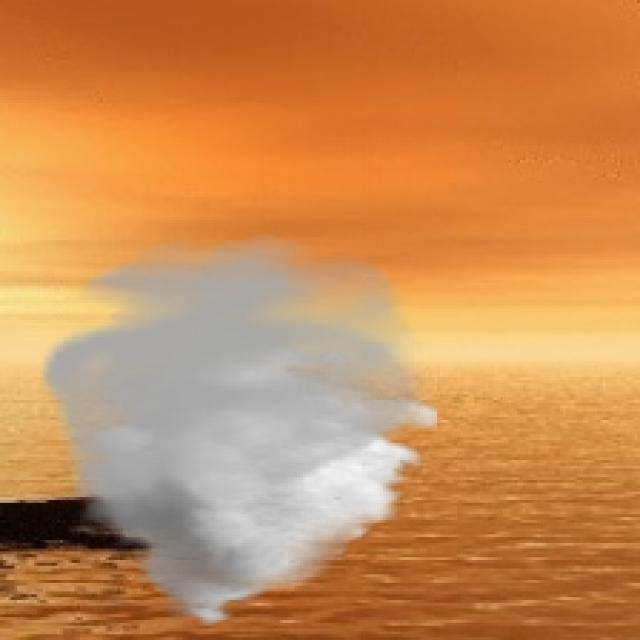smoke: (34, 234, 437, 629)
